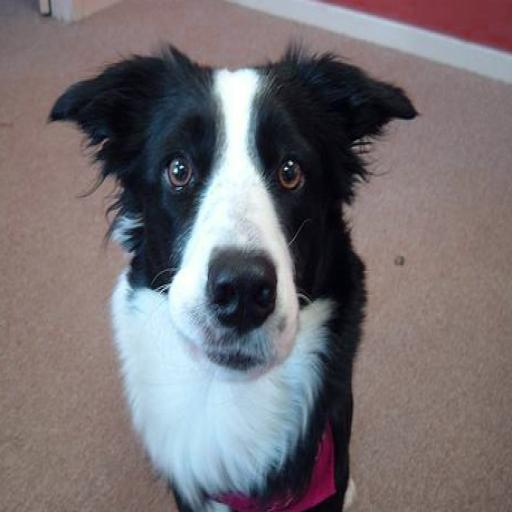dog_face: (53, 50, 409, 366)
